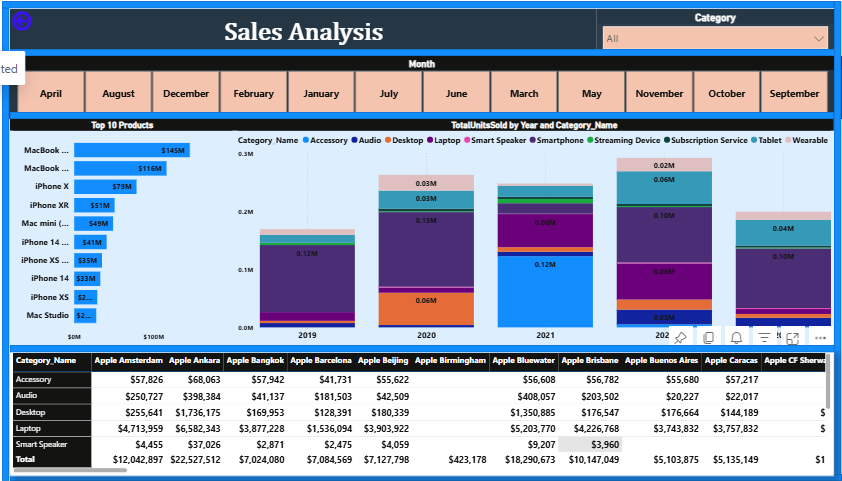

What the dashboard file says about the page in this screenshot:
{"tool":"powerbi","page":{"name":"Sales Analysis","canvas":[1400,800],"ordinal":1},"visuals":[{"type":"pieChart","title":"Price Wise sales","fields":{"Category":["Products.PriceSegment"],"Y":["Sales.TotalSales"]},"box":[761.4,197.1,624.3,377.1],"z":0},{"type":"textbox","box":[13.3,13.3,978.3,66.7],"z":1000},{"type":"slicer","title":"Category","fields":{"Values":["Category.Category_Name"]},"box":[991.8,13.1,395.1,67.2],"z":2000},{"type":"slicer","title":"Month","fields":{"Values":["Datetable.Date.Variation.Date Hierarchy.Month"]},"box":[0,91.7,1400,105],"z":3000},{"type":"shape","box":[13.3,185,1373.3,11.7],"z":5000},{"type":"shape","box":[13.3,80,1373.3,11.7],"z":6000},{"type":"shape","box":[13.3,788.3,1386.7,11.7],"z":7000},{"type":"shape","box":[0,0,1386.7,12],"z":8000},{"type":"shape","box":[1386.7,0,12,788.3],"z":9000},{"type":"shape","box":[0,11.7,12,788.3],"z":10000},{"type":"pivotTable","fields":{"Rows":["Category.Category_Name"],"Columns":["Stores.Store_name"],"Values":["Sales.TotalSales"]},"box":[13.4,581,1373.1,210.4],"z":11000},{"type":"shape","box":[13.1,573.8,1373.8,12],"z":12000},{"type":"actionButton","box":[13.3,13.3,100,40],"z":13000},{"type":"clusteredBarChart","title":"10 Least Selling Product","fields":{"Category":["Products.Product_name"],"Y":["Sales.TotalSales"]},"box":[12.9,197.1,367.1,377.1],"z":13001},{"type":"clusteredBarChart","title":"10 Least selling product by Country","fields":{"Category":["Stores.Country"],"Y":["Sales.TotalSales"]},"box":[380,197.1,381.4,377.1],"z":13002}]}

Visuals, with their boxes in screenshot pixels (x1, y1, x2, y2), scaled from the page's 1400x800 canvas onto the 842x481 screenshot:
"Price Wise sales" pieChart: bbox=(458, 119, 833, 345)
textbox: bbox=(8, 8, 596, 48)
"Category" slicer: bbox=(596, 8, 834, 48)
"Month" slicer: bbox=(0, 55, 841, 118)
shape: bbox=(8, 111, 834, 118)
shape: bbox=(8, 48, 834, 55)
shape: bbox=(8, 474, 841, 480)
shape: bbox=(0, 0, 834, 7)
shape: bbox=(834, 0, 841, 474)
shape: bbox=(0, 7, 7, 480)
pivotTable - Category.Category_Name x Stores.Store_name: bbox=(8, 349, 834, 476)
shape: bbox=(8, 345, 834, 352)
actionButton: bbox=(8, 8, 68, 32)
"10 Least Selling Product" clusteredBarChart: bbox=(8, 119, 229, 345)
"10 Least selling product by Country" clusteredBarChart: bbox=(229, 119, 458, 345)
